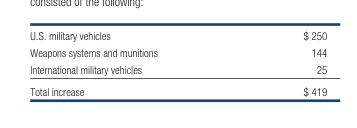table: (29, 28, 326, 96)
table column: (29, 28, 229, 96), (229, 28, 326, 96)
table row: (29, 60, 326, 79), (29, 43, 326, 60), (29, 79, 326, 96), (29, 28, 326, 43)
